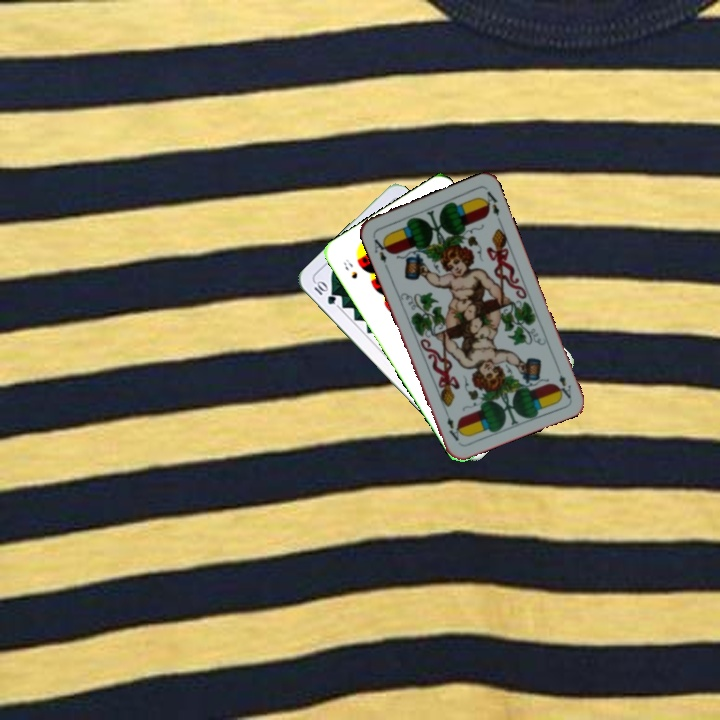EA: (552, 362, 574, 401), (369, 232, 392, 266)
G10: (310, 277, 339, 307)
S8: (340, 255, 360, 281)
